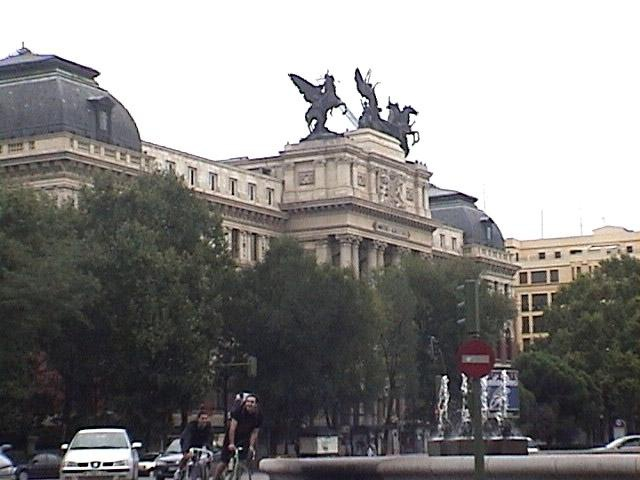non-vehicle: (181, 446, 216, 479), (219, 447, 255, 479)
